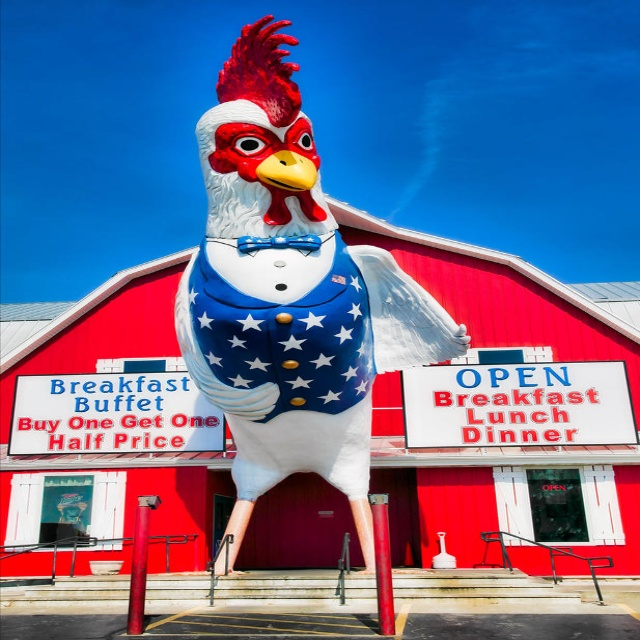Chicken: (174, 65, 491, 609)
